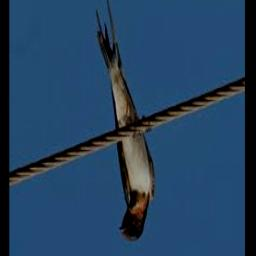Swallow: (96, 0, 155, 242)
